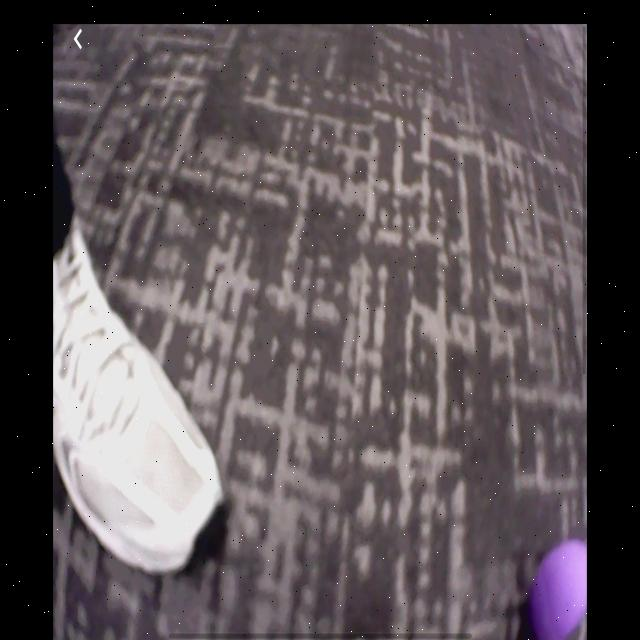ball: (530, 538, 586, 640)
